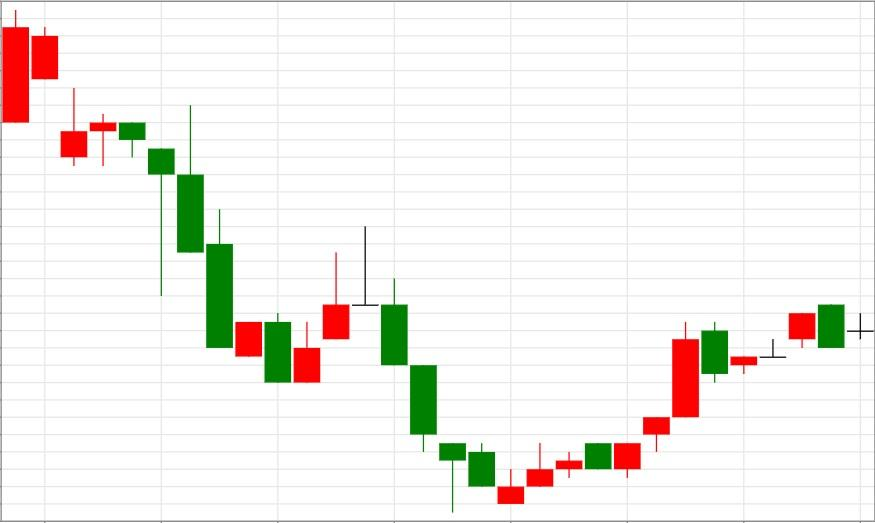evening_star_fall: (264, 226, 408, 383)
three_black_crows_fall: (60, 87, 205, 296)
three_white_soldiers_rise: (352, 226, 584, 513)
